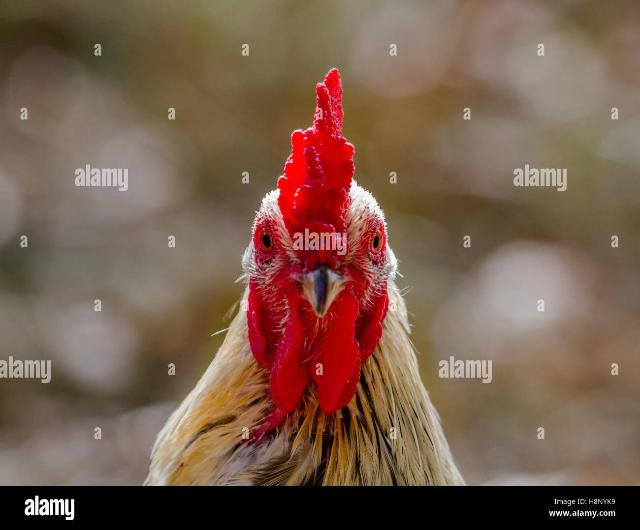Chicken: (146, 65, 468, 485)
